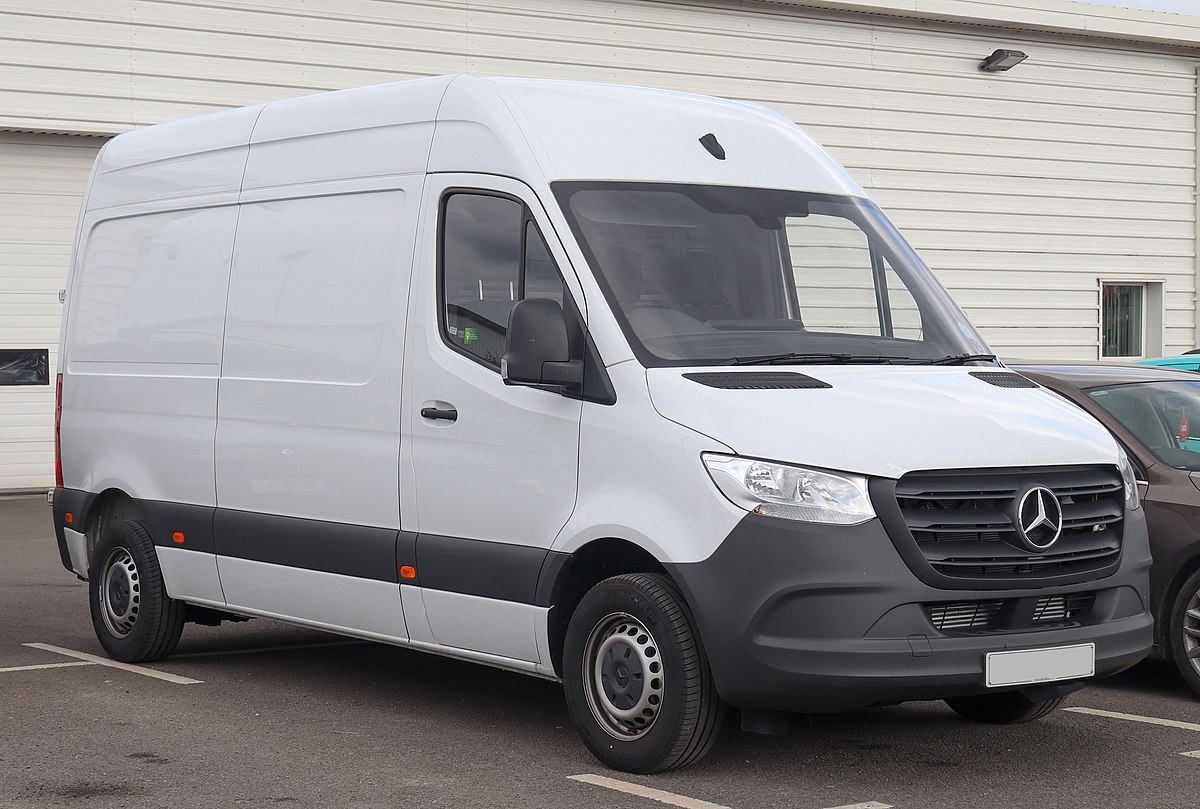van: (49, 74, 1155, 776)
